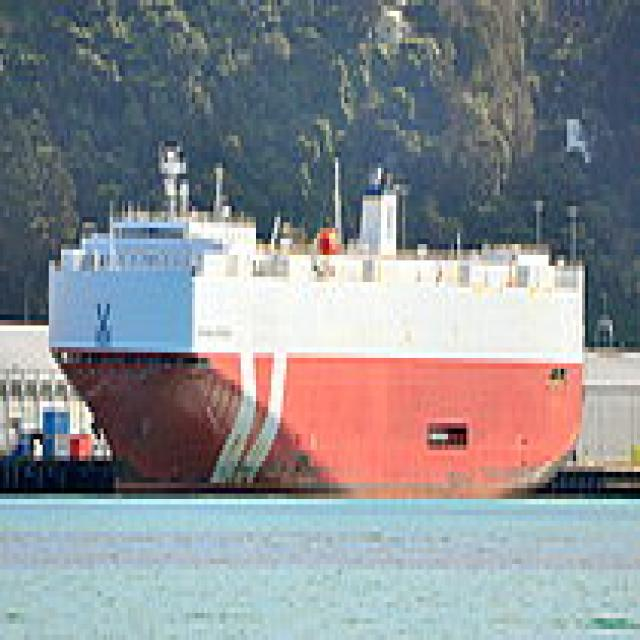Carrier: (43, 125, 585, 504)
